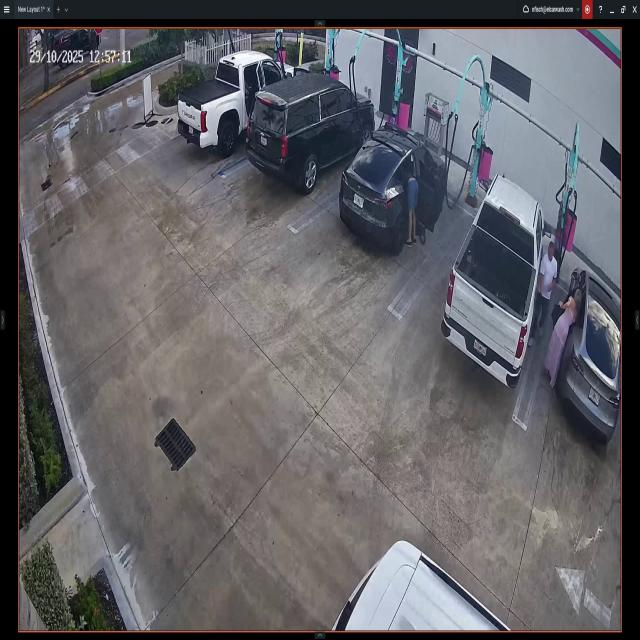Car: (442, 174, 538, 388), (333, 538, 510, 632), (246, 77, 373, 192), (341, 129, 445, 248), (176, 49, 296, 152), (563, 262, 620, 440)
